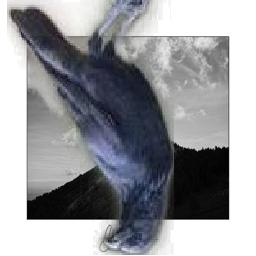Crow: (8, 0, 175, 255)
